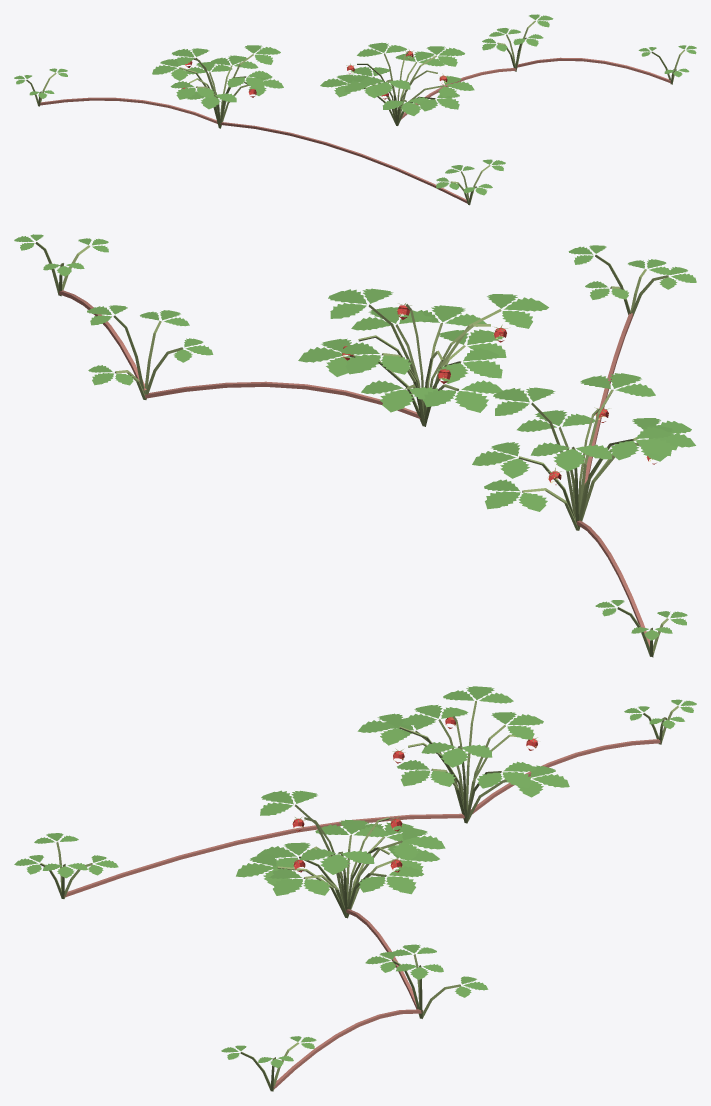
Rendered from wild_strawberry.glb.
3 renders of one model, top to bottom at view 1: azimuth 30°, elevation 25°; view 2: azimuth 150°, elevation 25°; view 3: azimuth 270°, elevation 25°, orthographic. The views are drawn at different scales.
Parts seen in each view (by area): view 1: wild_strawberry__ripe__leaves_runners, wild_strawberry__ripe__runners; view 2: wild_strawberry__ripe__leaves_runners, wild_strawberry__ripe__runners, wild_strawberry__ripe__fruit_ripe; view 3: wild_strawberry__ripe__leaves_runners, wild_strawberry__ripe__runners, wild_strawberry__ripe__fruit_ripe.
Part boxes in pixels (<box>): wild_strawberry__ripe__leaves_runners: <box>14,14,696,205</box>; wild_strawberry__ripe__runners: <box>40,57,671,203</box>; wild_strawberry__ripe__leaves_runners: <box>14,234,696,657</box>; wild_strawberry__ripe__runners: <box>59,290,653,651</box>; wild_strawberry__ripe__fruit_ripe: <box>342,303,656,484</box>; wild_strawberry__ripe__leaves_runners: <box>14,686,696,1091</box>; wild_strawberry__ripe__runners: <box>64,739,661,1089</box>; wild_strawberry__ripe__fruit_ripe: <box>292,717,537,872</box>.
Bounding box in the file's own units: 1.2 × 0.1473 × 0.9153.
